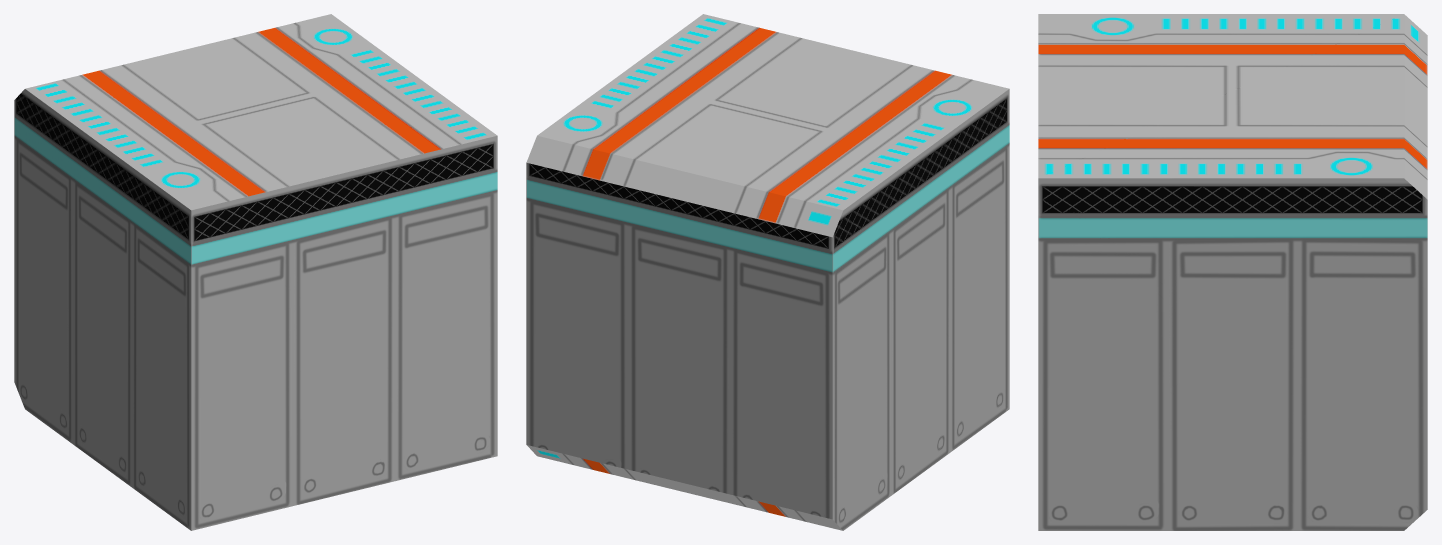
File: base_block_both.fbx
3 views of the same model, side by side, from view 1: azimuth 30°, elevation 25°; view 2: azimuth 150°, elevation 25°; view 3: azimuth 270°, elevation 25° (orthographic). The views are drawn at different scales.
Visible parts, largest first — view 1: base_block_both; view 2: base_block_both; view 3: base_block_both.
Boxes of the visible parts, box(x1,y1,x2,y2) form: base_block_both: box(14, 14, 497, 530); base_block_both: box(526, 14, 1009, 530); base_block_both: box(1038, 14, 1427, 530).
Size of the model in its own units: 10 by 10 by 10.
